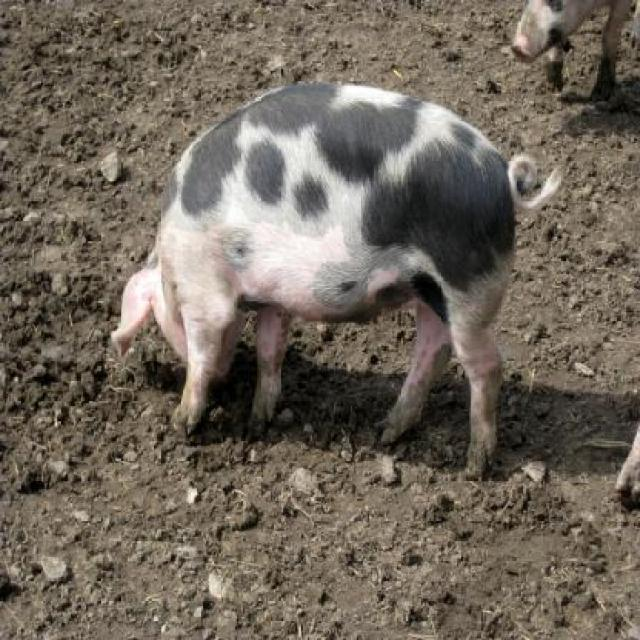pig: (109, 80, 565, 479), (511, 0, 639, 100), (611, 423, 639, 502)
